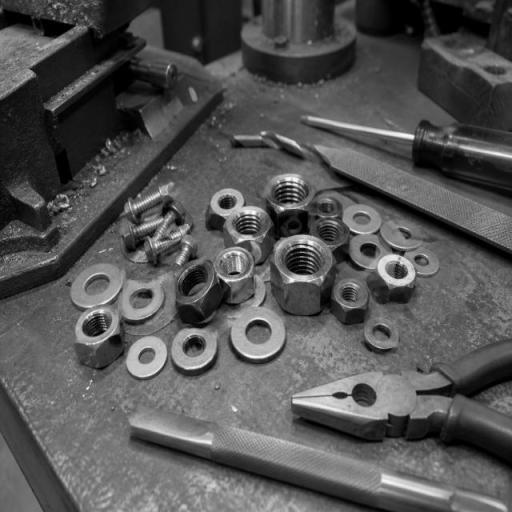Bolt: (119, 208, 183, 250), (137, 229, 193, 265), (121, 190, 178, 224), (169, 238, 199, 267)
Nut: (269, 233, 334, 304), (172, 259, 231, 326), (75, 308, 124, 369), (214, 246, 257, 305), (225, 205, 271, 258), (376, 252, 418, 305), (268, 173, 312, 223), (205, 187, 245, 234), (331, 279, 370, 325), (311, 219, 349, 257), (309, 192, 343, 229)
Washer: (229, 307, 287, 362), (69, 262, 125, 310), (168, 326, 219, 373), (117, 280, 164, 323), (124, 335, 168, 379), (347, 232, 386, 270), (343, 203, 382, 235), (381, 220, 422, 250), (363, 320, 400, 352), (403, 247, 440, 277)
